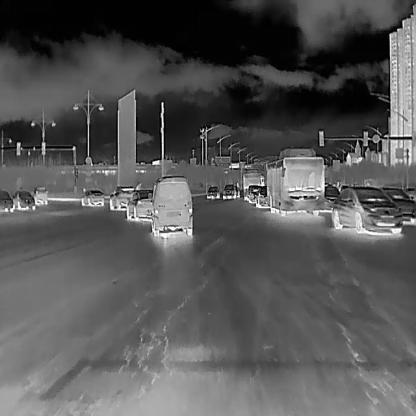car: (266, 146, 322, 216), (331, 185, 403, 233), (152, 176, 191, 236), (380, 187, 416, 225), (127, 189, 152, 220), (108, 184, 132, 211), (242, 171, 264, 200), (78, 188, 104, 208), (12, 190, 35, 210), (324, 185, 340, 210), (32, 185, 48, 206), (0, 189, 14, 212), (223, 182, 240, 197), (256, 186, 267, 208), (248, 184, 259, 203), (206, 184, 219, 198)
